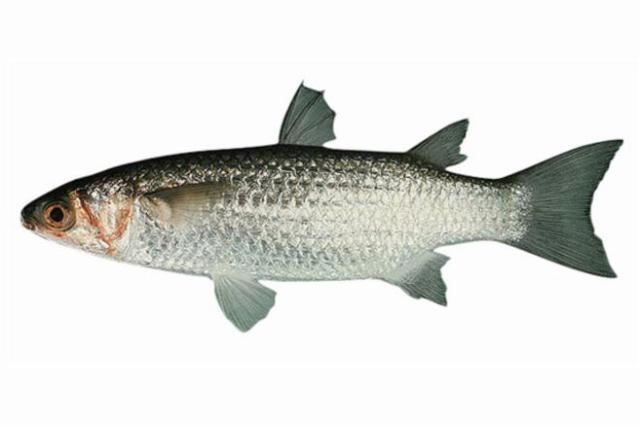Mulut: (11, 192, 47, 239)
Sirip Anal: (388, 241, 458, 315)
Sirip Dada: (134, 170, 232, 236)
Sirip Ekor: (522, 132, 624, 282)
Sirip Perut: (205, 262, 285, 338)
Sirip Punggung: (262, 73, 478, 187)
